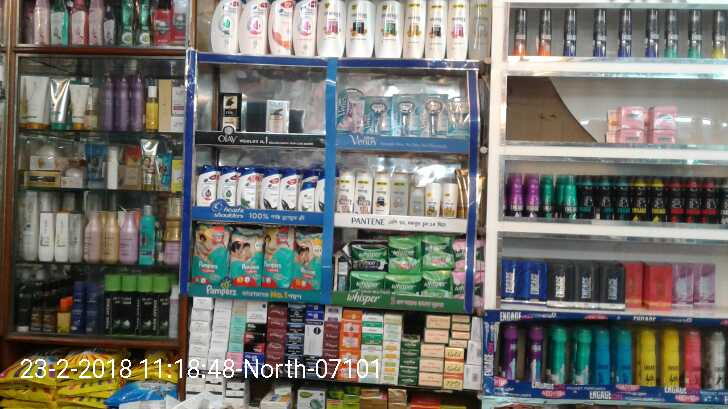gillete: (151, 275, 169, 335), (105, 273, 122, 336), (122, 275, 137, 336), (137, 275, 151, 335)
venus: (393, 95, 424, 136), (362, 95, 391, 136), (424, 95, 448, 138), (336, 91, 361, 128), (448, 98, 468, 138)
